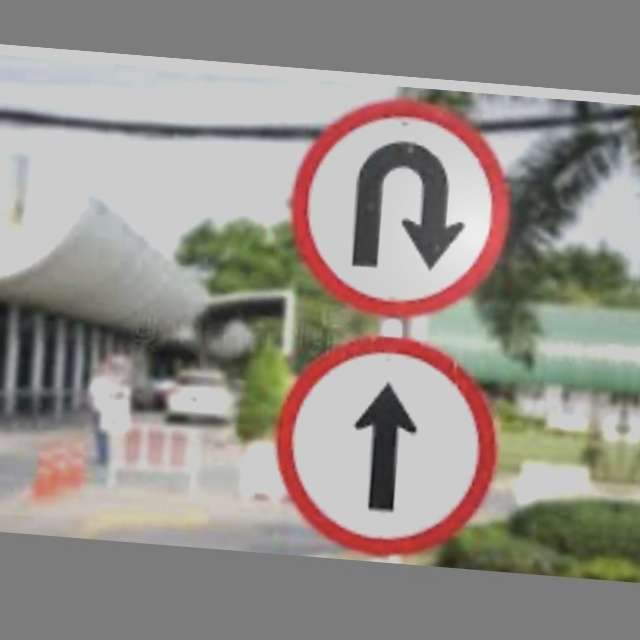U_Turn_Ahead: (288, 95, 518, 314)
